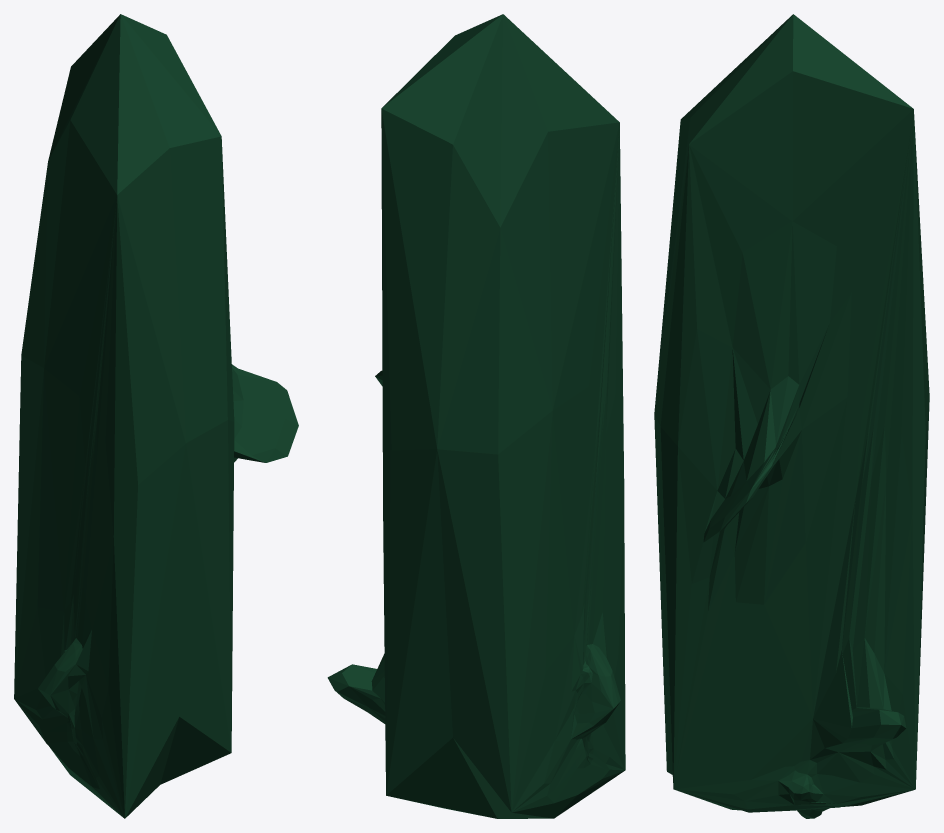
3 views of the same model, side by side, from view 1: azimuth 30°, elevation 25°; view 2: azimuth 150°, elevation 25°; view 3: azimuth 270°, elevation 25° (orthographic). The views are drawn at different scales.
Visible parts, largest first — view 1: 139_Cube.576; view 2: 139_Cube.576; view 3: 139_Cube.576.
Boxes of the visible parts, left/top/right/bottom form: 139_Cube.576: left=14, top=14, right=298, bottom=818; 139_Cube.576: left=327, top=14, right=625, bottom=818; 139_Cube.576: left=654, top=14, right=929, bottom=818.
Bounding box in the file's own units: 4.05 × 12.26 × 3.86.
